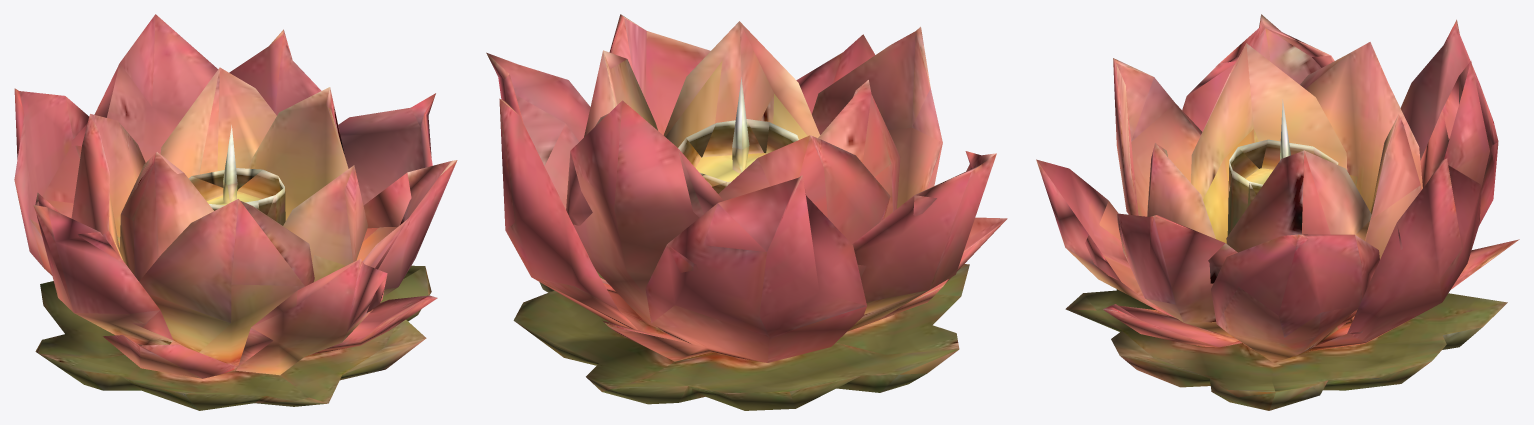
The model's file is hoadang.glb.
3 views of the same model, side by side, from view 1: azimuth 30°, elevation 25°; view 2: azimuth 150°, elevation 25°; view 3: azimuth 270°, elevation 25° (orthographic). The views are drawn at different scales.
Visible parts, largest first — view 1: tripo_node_a7fc5fd3-6dd8-40dd-ba7e-560f2e6bad86; view 2: tripo_node_a7fc5fd3-6dd8-40dd-ba7e-560f2e6bad86; view 3: tripo_node_a7fc5fd3-6dd8-40dd-ba7e-560f2e6bad86.
Part boxes in pixels (x1,y1,x2,y2): tripo_node_a7fc5fd3-6dd8-40dd-ba7e-560f2e6bad86: (14,14,457,410); tripo_node_a7fc5fd3-6dd8-40dd-ba7e-560f2e6bad86: (486,14,1007,410); tripo_node_a7fc5fd3-6dd8-40dd-ba7e-560f2e6bad86: (1036,14,1519,410).
Size of the model in its own units: 0.966 by 0.6062 by 0.9106.
1 material, 1 textured.
